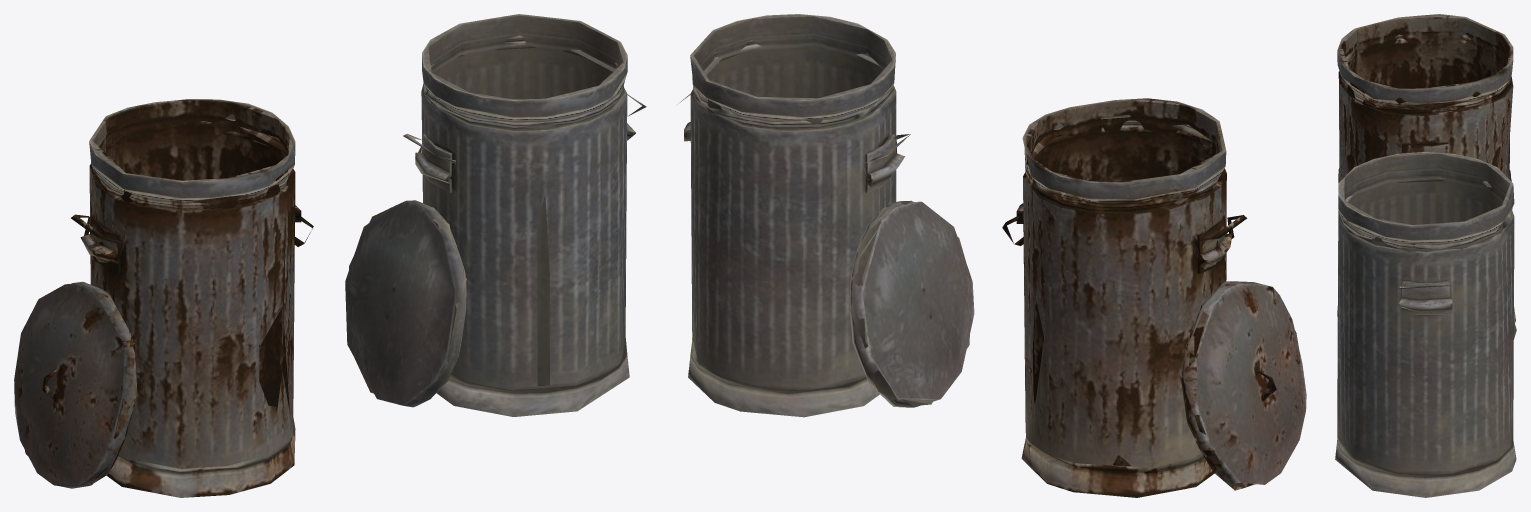
Rendered from metal_trash_can_game.gltf.
3 views of the same model, side by side, from view 1: azimuth 30°, elevation 25°; view 2: azimuth 150°, elevation 25°; view 3: azimuth 270°, elevation 25° (orthographic). The views are drawn at different scales.
Visible parts, largest first — view 1: metal_trash_can; view 2: metal_trash_can; view 3: metal_trash_can.
Boxes of the visible parts, bbox=[...] form: metal_trash_can: bbox=[14, 14, 646, 497]; metal_trash_can: bbox=[676, 14, 1306, 497]; metal_trash_can: bbox=[1335, 14, 1516, 497].
Size of the model in its own units: 1.77 by 0.9062 by 0.5524.
Materials: 3 (3 with a texture image).
